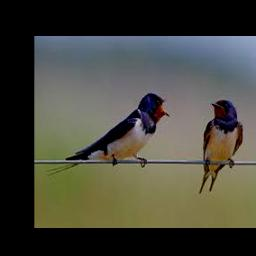Swallow: (46, 92, 172, 176), (200, 98, 242, 194)
